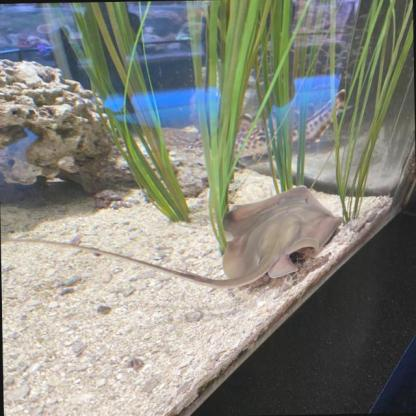stingray: (217, 185, 346, 294)
